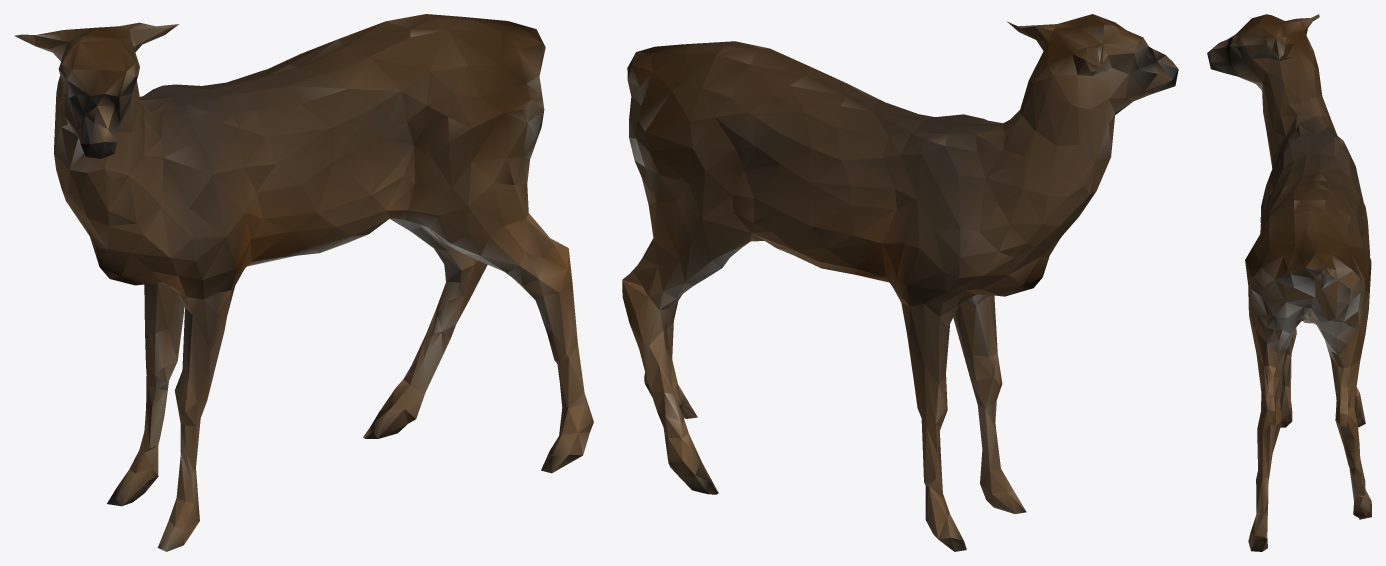
Rendered from deer_standing.glb.
3 views of the same model, side by side, from view 1: azimuth 30°, elevation 25°; view 2: azimuth 150°, elevation 25°; view 3: azimuth 270°, elevation 25° (orthographic). The views are drawn at different scales.
Parts seen in each view (by area): view 1: deer_standing; view 2: deer_standing; view 3: deer_standing.
Part boxes in pixels (box(x1,y1,x2,y2)): deer_standing: box(14, 14, 593, 551); deer_standing: box(622, 14, 1178, 551); deer_standing: box(1207, 14, 1371, 551).
Size of the model in its own units: 4.54 by 4.37 by 1.73.
